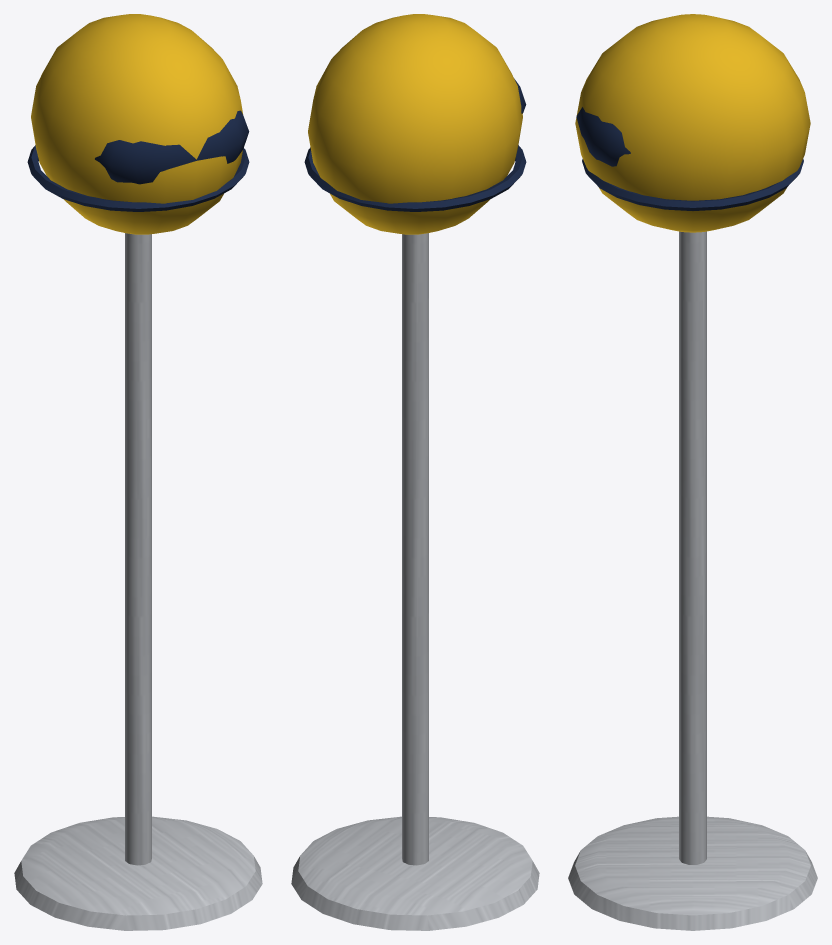
File: capacete-no-suporte.glb
The picture shows the model from 3 angles, left to right: view 1: azimuth 30°, elevation 25°; view 2: azimuth 150°, elevation 25°; view 3: azimuth 270°, elevation 25°; orthographic projection.
Parts seen in each view (by area): view 1: casco, base, haste, viseira, faixa; view 2: casco, base, haste, faixa; view 3: casco, base, haste, faixa, viseira.
Part boxes in pixels (x1,y1,x2,y2): casco: (31,14,243,234); base: (14,816,262,930); haste: (125,233,151,865); viseira: (95,110,249,184); faixa: (27,145,249,211); casco: (308,14,522,234); base: (291,816,539,930); haste: (402,233,428,865); faixa: (304,145,526,211); casco: (575,14,810,232); base: (568,816,817,930); haste: (679,231,706,864); faixa: (582,159,803,210); viseira: (576,107,630,166).
Bounding box in the file's own units: 0.36 × 1.36 × 0.36.
3 materials, 1 textured.
